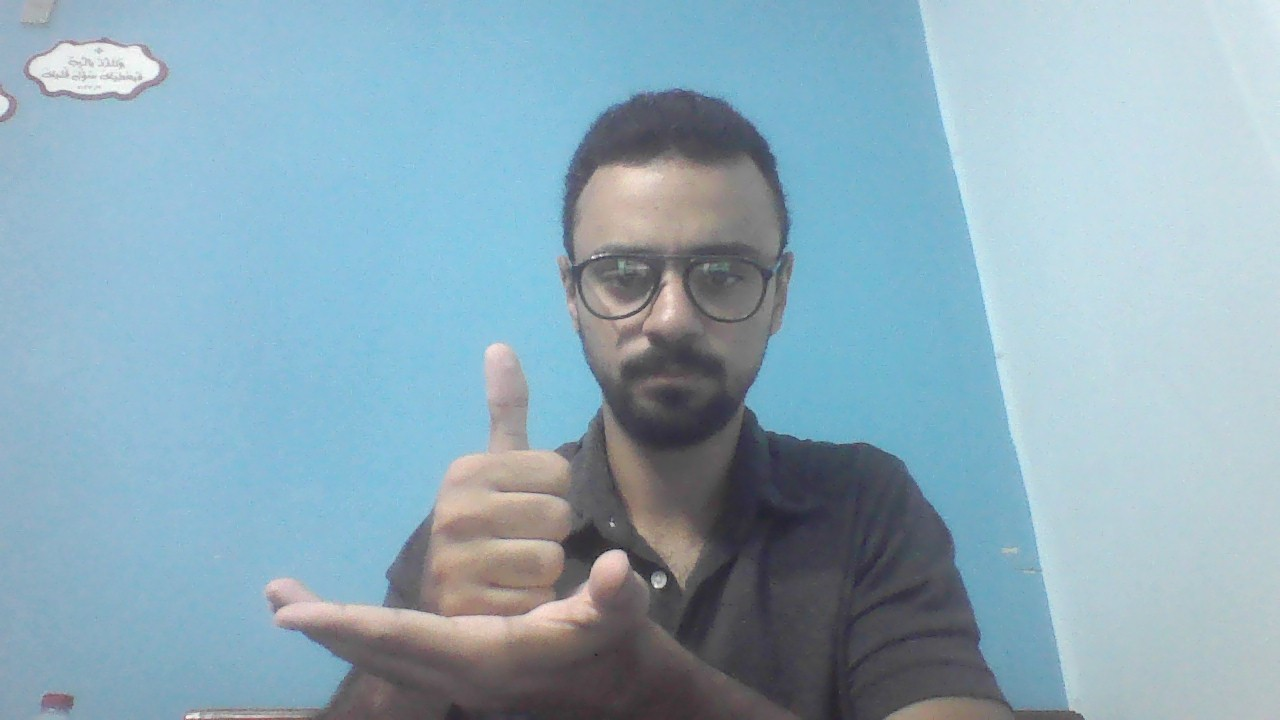help: (265, 337, 665, 720)
